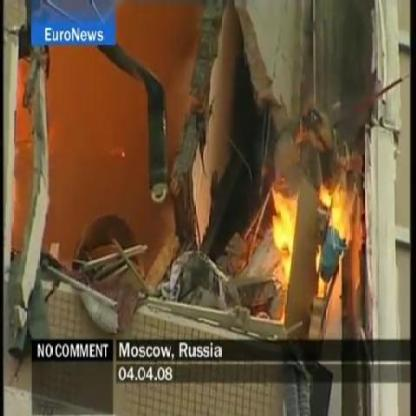fire: (271, 168, 350, 300)
